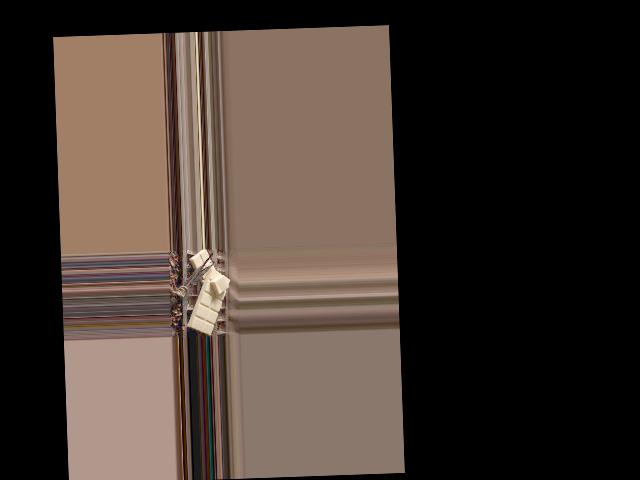chocolate: (186, 266, 231, 335)
